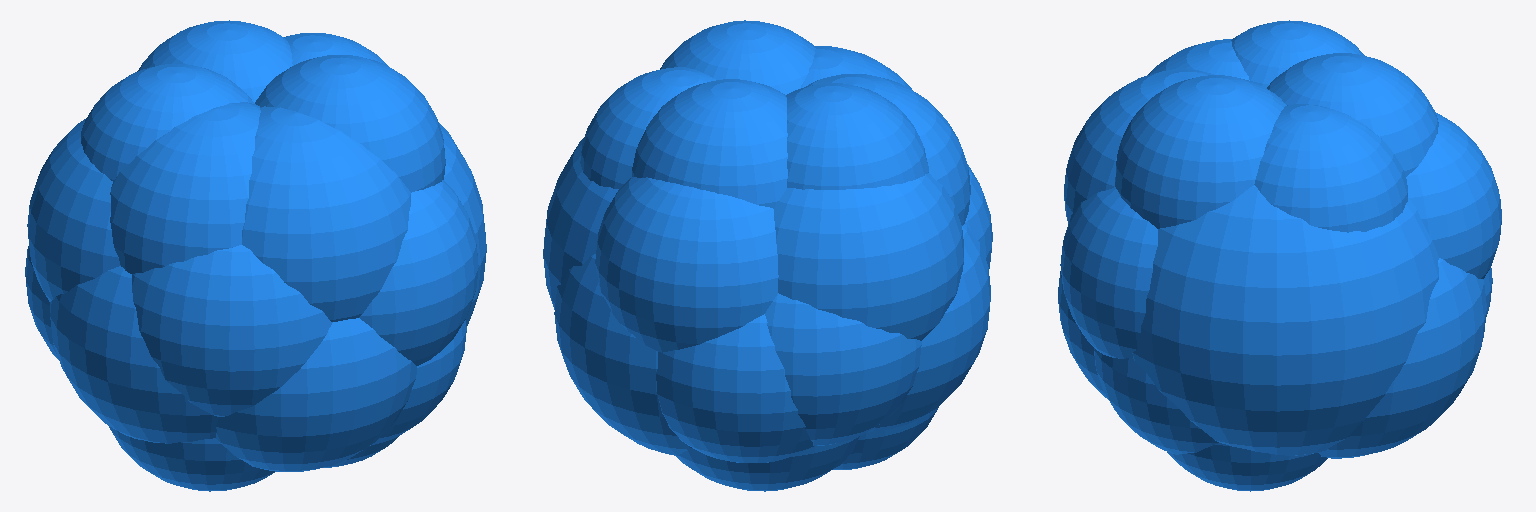
URDF robot description (foobler):
<?xml version="1.0"?>
<robot name="foobler">
  <!-- morphit:centroid -0.003634 -0.001188 0.079109 -->
  <material name="default_color">
    <color rgba="0.200000 0.600000 1.000000 1.000000"/>
  </material>
  <link name="base">
    <inertial>
      <mass value="0.001000"/>
      <inertia ixx="0.000010" ixy="0.0" ixz="0.0" iyy="0.000010" iyz="0.0" izz="0.000010"/>
    </inertial>
  </link>
  <link name="sphere_0">
    <visual>
      <origin xyz="0 0 0" rpy="0 0 0"/>
      <geometry><sphere radius="0.061865"/></geometry>
      <material name="default_color"/>
    </visual>
    <collision>
      <origin xyz="0 0 0" rpy="0 0 0"/>
      <geometry><sphere radius="0.061865"/></geometry>
    </collision>
    <inertial>
      <mass value="0.140719"/>
      <inertia ixx="0.000215" ixy="0.0" ixz="0.0" iyy="0.000215" iyz="0.0" izz="0.000215"/>
    </inertial>
  </link>
  <joint name="sphere_0_fixed" type="fixed">
    <parent link="base"/>
    <child link="sphere_0"/>
    <origin xyz="0.022812 0.001814 -0.002454" rpy="0 0 0"/>
  </joint>
  <link name="sphere_1">
    <visual>
      <origin xyz="0 0 0" rpy="0 0 0"/>
      <geometry><sphere radius="0.045844"/></geometry>
      <material name="default_color"/>
    </visual>
    <collision>
      <origin xyz="0 0 0" rpy="0 0 0"/>
      <geometry><sphere radius="0.045844"/></geometry>
    </collision>
    <inertial>
      <mass value="0.057262"/>
      <inertia ixx="0.000048" ixy="0.0" ixz="0.0" iyy="0.000048" iyz="0.0" izz="0.000048"/>
    </inertial>
  </link>
  <joint name="sphere_1_fixed" type="fixed">
    <parent link="base"/>
    <child link="sphere_1"/>
    <origin xyz="-0.028441 0.010898 0.011694" rpy="0 0 0"/>
  </joint>
  <link name="sphere_2">
    <visual>
      <origin xyz="0 0 0" rpy="0 0 0"/>
      <geometry><sphere radius="0.040465"/></geometry>
      <material name="default_color"/>
    </visual>
    <collision>
      <origin xyz="0 0 0" rpy="0 0 0"/>
      <geometry><sphere radius="0.040465"/></geometry>
    </collision>
    <inertial>
      <mass value="0.039378"/>
      <inertia ixx="0.000026" ixy="0.0" ixz="0.0" iyy="0.000026" iyz="0.0" izz="0.000026"/>
    </inertial>
  </link>
  <joint name="sphere_2_fixed" type="fixed">
    <parent link="base"/>
    <child link="sphere_2"/>
    <origin xyz="0.004598 0.039643 0.013434" rpy="0 0 0"/>
  </joint>
  <link name="sphere_3">
    <visual>
      <origin xyz="0 0 0" rpy="0 0 0"/>
      <geometry><sphere radius="0.046150"/></geometry>
      <material name="default_color"/>
    </visual>
    <collision>
      <origin xyz="0 0 0" rpy="0 0 0"/>
      <geometry><sphere radius="0.046150"/></geometry>
    </collision>
    <inertial>
      <mass value="0.058415"/>
      <inertia ixx="0.000050" ixy="0.0" ixz="0.0" iyy="0.000050" iyz="0.0" izz="0.000050"/>
    </inertial>
  </link>
  <joint name="sphere_3_fixed" type="fixed">
    <parent link="base"/>
    <child link="sphere_3"/>
    <origin xyz="-0.000880 -0.028565 -0.019382" rpy="0 0 0"/>
  </joint>
  <link name="sphere_4">
    <visual>
      <origin xyz="0 0 0" rpy="0 0 0"/>
      <geometry><sphere radius="0.039296"/></geometry>
      <material name="default_color"/>
    </visual>
    <collision>
      <origin xyz="0 0 0" rpy="0 0 0"/>
      <geometry><sphere radius="0.039296"/></geometry>
    </collision>
    <inertial>
      <mass value="0.036064"/>
      <inertia ixx="0.000022" ixy="0.0" ixz="0.0" iyy="0.000022" iyz="0.0" izz="0.000022"/>
    </inertial>
  </link>
  <joint name="sphere_4_fixed" type="fixed">
    <parent link="base"/>
    <child link="sphere_4"/>
    <origin xyz="-0.019471 -0.007854 -0.038157" rpy="0 0 0"/>
  </joint>
  <link name="sphere_5">
    <visual>
      <origin xyz="0 0 0" rpy="0 0 0"/>
      <geometry><sphere radius="0.042949"/></geometry>
      <material name="default_color"/>
    </visual>
    <collision>
      <origin xyz="0 0 0" rpy="0 0 0"/>
      <geometry><sphere radius="0.042949"/></geometry>
    </collision>
    <inertial>
      <mass value="0.047085"/>
      <inertia ixx="0.000035" ixy="0.0" ixz="0.0" iyy="0.000035" iyz="0.0" izz="0.000035"/>
    </inertial>
  </link>
  <joint name="sphere_5_fixed" type="fixed">
    <parent link="base"/>
    <child link="sphere_5"/>
    <origin xyz="-0.009138 0.033827 -0.017415" rpy="0 0 0"/>
  </joint>
  <link name="sphere_6">
    <visual>
      <origin xyz="0 0 0" rpy="0 0 0"/>
      <geometry><sphere radius="0.041426"/></geometry>
      <material name="default_color"/>
    </visual>
    <collision>
      <origin xyz="0 0 0" rpy="0 0 0"/>
      <geometry><sphere radius="0.041426"/></geometry>
    </collision>
    <inertial>
      <mass value="0.042251"/>
      <inertia ixx="0.000029" ixy="0.0" ixz="0.0" iyy="0.000029" iyz="0.0" izz="0.000029"/>
    </inertial>
  </link>
  <joint name="sphere_6_fixed" type="fixed">
    <parent link="base"/>
    <child link="sphere_6"/>
    <origin xyz="-0.021640 -0.014064 0.023871" rpy="0 0 0"/>
  </joint>
  <link name="sphere_7">
    <visual>
      <origin xyz="0 0 0" rpy="0 0 0"/>
      <geometry><sphere radius="0.052327"/></geometry>
      <material name="default_color"/>
    </visual>
    <collision>
      <origin xyz="0 0 0" rpy="0 0 0"/>
      <geometry><sphere radius="0.052327"/></geometry>
    </collision>
    <inertial>
      <mass value="0.085155"/>
      <inertia ixx="0.000093" ixy="0.0" ixz="0.0" iyy="0.000093" iyz="0.0" izz="0.000093"/>
    </inertial>
  </link>
  <joint name="sphere_7_fixed" type="fixed">
    <parent link="base"/>
    <child link="sphere_7"/>
    <origin xyz="0.017319 0.022440 -0.015756" rpy="0 0 0"/>
  </joint>
  <link name="sphere_8">
    <visual>
      <origin xyz="0 0 0" rpy="0 0 0"/>
      <geometry><sphere radius="0.044063"/></geometry>
      <material name="default_color"/>
    </visual>
    <collision>
      <origin xyz="0 0 0" rpy="0 0 0"/>
      <geometry><sphere radius="0.044063"/></geometry>
    </collision>
    <inertial>
      <mass value="0.050843"/>
      <inertia ixx="0.000039" ixy="0.0" ixz="0.0" iyy="0.000039" iyz="0.0" izz="0.000039"/>
    </inertial>
  </link>
  <joint name="sphere_8_fixed" type="fixed">
    <parent link="base"/>
    <child link="sphere_8"/>
    <origin xyz="-0.003553 0.017428 -0.034534" rpy="0 0 0"/>
  </joint>
  <link name="sphere_9">
    <visual>
      <origin xyz="0 0 0" rpy="0 0 0"/>
      <geometry><sphere radius="0.035207"/></geometry>
      <material name="default_color"/>
    </visual>
    <collision>
      <origin xyz="0 0 0" rpy="0 0 0"/>
      <geometry><sphere radius="0.035207"/></geometry>
    </collision>
    <inertial>
      <mass value="0.025937"/>
      <inertia ixx="0.000013" ixy="0.0" ixz="0.0" iyy="0.000013" iyz="0.0" izz="0.000013"/>
    </inertial>
  </link>
  <joint name="sphere_9_fixed" type="fixed">
    <parent link="base"/>
    <child link="sphere_9"/>
    <origin xyz="0.032320 0.013102 0.031545" rpy="0 0 0"/>
  </joint>
  <link name="sphere_10">
    <visual>
      <origin xyz="0 0 0" rpy="0 0 0"/>
      <geometry><sphere radius="0.043339"/></geometry>
      <material name="default_color"/>
    </visual>
    <collision>
      <origin xyz="0 0 0" rpy="0 0 0"/>
      <geometry><sphere radius="0.043339"/></geometry>
    </collision>
    <inertial>
      <mass value="0.048380"/>
      <inertia ixx="0.000036" ixy="0.0" ixz="0.0" iyy="0.000036" iyz="0.0" izz="0.000036"/>
    </inertial>
  </link>
  <joint name="sphere_10_fixed" type="fixed">
    <parent link="base"/>
    <child link="sphere_10"/>
    <origin xyz="0.000923 -0.029299 0.021102" rpy="0 0 0"/>
  </joint>
  <link name="sphere_11">
    <visual>
      <origin xyz="0 0 0" rpy="0 0 0"/>
      <geometry><sphere radius="0.049612"/></geometry>
      <material name="default_color"/>
    </visual>
    <collision>
      <origin xyz="0 0 0" rpy="0 0 0"/>
      <geometry><sphere radius="0.049612"/></geometry>
    </collision>
    <inertial>
      <mass value="0.072576"/>
      <inertia ixx="0.000071" ixy="0.0" ixz="0.0" iyy="0.000071" iyz="0.0" izz="0.000071"/>
    </inertial>
  </link>
  <joint name="sphere_11_fixed" type="fixed">
    <parent link="base"/>
    <child link="sphere_11"/>
    <origin xyz="-0.025165 -0.005814 -0.012168" rpy="0 0 0"/>
  </joint>
  <link name="sphere_12">
    <visual>
      <origin xyz="0 0 0" rpy="0 0 0"/>
      <geometry><sphere radius="0.041748"/></geometry>
      <material name="default_color"/>
    </visual>
    <collision>
      <origin xyz="0 0 0" rpy="0 0 0"/>
      <geometry><sphere radius="0.041748"/></geometry>
    </collision>
    <inertial>
      <mass value="0.043244"/>
      <inertia ixx="0.000030" ixy="0.0" ixz="0.0" iyy="0.000030" iyz="0.0" izz="0.000030"/>
    </inertial>
  </link>
  <joint name="sphere_12_fixed" type="fixed">
    <parent link="base"/>
    <child link="sphere_12"/>
    <origin xyz="0.023248 -0.031984 0.003720" rpy="0 0 0"/>
  </joint>
  <link name="sphere_13">
    <visual>
      <origin xyz="0 0 0" rpy="0 0 0"/>
      <geometry><sphere radius="0.041680"/></geometry>
      <material name="default_color"/>
    </visual>
    <collision>
      <origin xyz="0 0 0" rpy="0 0 0"/>
      <geometry><sphere radius="0.041680"/></geometry>
    </collision>
    <inertial>
      <mass value="0.043034"/>
      <inertia ixx="0.000030" ixy="0.0" ixz="0.0" iyy="0.000030" iyz="0.0" izz="0.000030"/>
    </inertial>
  </link>
  <joint name="sphere_13_fixed" type="fixed">
    <parent link="base"/>
    <child link="sphere_13"/>
    <origin xyz="0.024987 -0.020994 -0.024565" rpy="0 0 0"/>
  </joint>
  <link name="sphere_14">
    <visual>
      <origin xyz="0 0 0" rpy="0 0 0"/>
      <geometry><sphere radius="0.043204"/></geometry>
      <material name="default_color"/>
    </visual>
    <collision>
      <origin xyz="0 0 0" rpy="0 0 0"/>
      <geometry><sphere radius="0.043204"/></geometry>
    </collision>
    <inertial>
      <mass value="0.047927"/>
      <inertia ixx="0.000036" ixy="0.0" ixz="0.0" iyy="0.000036" iyz="0.0" izz="0.000036"/>
    </inertial>
  </link>
  <joint name="sphere_14_fixed" type="fixed">
    <parent link="base"/>
    <child link="sphere_14"/>
    <origin xyz="-0.025443 0.022922 -0.011014" rpy="0 0 0"/>
  </joint>
  <link name="sphere_15">
    <visual>
      <origin xyz="0 0 0" rpy="0 0 0"/>
      <geometry><sphere radius="0.034696"/></geometry>
      <material name="default_color"/>
    </visual>
    <collision>
      <origin xyz="0 0 0" rpy="0 0 0"/>
      <geometry><sphere radius="0.034696"/></geometry>
    </collision>
    <inertial>
      <mass value="0.024823"/>
      <inertia ixx="0.000012" ixy="0.0" ixz="0.0" iyy="0.000012" iyz="0.0" izz="0.000012"/>
    </inertial>
  </link>
  <joint name="sphere_15_fixed" type="fixed">
    <parent link="base"/>
    <child link="sphere_15"/>
    <origin xyz="-0.025400 0.006089 0.036697" rpy="0 0 0"/>
  </joint>
  <link name="sphere_16">
    <visual>
      <origin xyz="0 0 0" rpy="0 0 0"/>
      <geometry><sphere radius="0.035938"/></geometry>
      <material name="default_color"/>
    </visual>
    <collision>
      <origin xyz="0 0 0" rpy="0 0 0"/>
      <geometry><sphere radius="0.035938"/></geometry>
    </collision>
    <inertial>
      <mass value="0.027585"/>
      <inertia ixx="0.000014" ixy="0.0" ixz="0.0" iyy="0.000014" iyz="0.0" izz="0.000014"/>
    </inertial>
  </link>
  <joint name="sphere_16_fixed" type="fixed">
    <parent link="base"/>
    <child link="sphere_16"/>
    <origin xyz="0.024244 -0.019468 0.037513" rpy="0 0 0"/>
  </joint>
  <link name="sphere_17">
    <visual>
      <origin xyz="0 0 0" rpy="0 0 0"/>
      <geometry><sphere radius="0.035913"/></geometry>
      <material name="default_color"/>
    </visual>
    <collision>
      <origin xyz="0 0 0" rpy="0 0 0"/>
      <geometry><sphere radius="0.035913"/></geometry>
    </collision>
    <inertial>
      <mass value="0.027529"/>
      <inertia ixx="0.000014" ixy="0.0" ixz="0.0" iyy="0.000014" iyz="0.0" izz="0.000014"/>
    </inertial>
  </link>
  <joint name="sphere_17_fixed" type="fixed">
    <parent link="base"/>
    <child link="sphere_17"/>
    <origin xyz="0.005096 0.024365 0.037110" rpy="0 0 0"/>
  </joint>
  <link name="sphere_18">
    <visual>
      <origin xyz="0 0 0" rpy="0 0 0"/>
      <geometry><sphere radius="0.043722"/></geometry>
      <material name="default_color"/>
    </visual>
    <collision>
      <origin xyz="0 0 0" rpy="0 0 0"/>
      <geometry><sphere radius="0.043722"/></geometry>
    </collision>
    <inertial>
      <mass value="0.049675"/>
      <inertia ixx="0.000038" ixy="0.0" ixz="0.0" iyy="0.000038" iyz="0.0" izz="0.000038"/>
    </inertial>
  </link>
  <joint name="sphere_18_fixed" type="fixed">
    <parent link="base"/>
    <child link="sphere_18"/>
    <origin xyz="-0.020428 -0.026955 -0.000005" rpy="0 0 0"/>
  </joint>
  <link name="sphere_19">
    <visual>
      <origin xyz="0 0 0" rpy="0 0 0"/>
      <geometry><sphere radius="0.037806"/></geometry>
      <material name="default_color"/>
    </visual>
    <collision>
      <origin xyz="0 0 0" rpy="0 0 0"/>
      <geometry><sphere radius="0.037806"/></geometry>
    </collision>
    <inertial>
      <mass value="0.032116"/>
      <inertia ixx="0.000018" ixy="0.0" ixz="0.0" iyy="0.000018" iyz="0.0" izz="0.000018"/>
    </inertial>
  </link>
  <joint name="sphere_19_fixed" type="fixed">
    <parent link="base"/>
    <child link="sphere_19"/>
    <origin xyz="0.024012 -0.007533 -0.041236" rpy="0 0 0"/>
  </joint>
</robot>

--- Render facts (derived) ---
The picture shows the robot from 3 angles, left to right: view 1: azimuth 30°, elevation 25°; view 2: azimuth 150°, elevation 25°; view 3: azimuth 270°, elevation 25°; orthographic projection.
Robot: foobler — 21 links, 20 joints (20 fixed); root link base; default pose: all joints at 0.
Links seen in each view (by area): view 1: sphere_10, sphere_18, sphere_6, sphere_3, sphere_11, sphere_16, sphere_12, sphere_1, sphere_15, sphere_17, sphere_4, sphere_13 (+3 smaller); view 2: sphere_2, sphere_1, sphere_5, sphere_17, sphere_14, sphere_15, sphere_7, sphere_11, sphere_16, sphere_9, sphere_0, sphere_6 (+4 smaller); view 3: sphere_0, sphere_16, sphere_9, sphere_7, sphere_12, sphere_17, sphere_2, sphere_10, sphere_13, sphere_15, sphere_19, sphere_6 (+1 smaller).
Link boxes in pixels (x1,y1,x2,y2): sphere_10: [242, 106, 410, 321]; sphere_18: [132, 245, 332, 416]; sphere_6: [110, 102, 260, 273]; sphere_3: [216, 318, 416, 471]; sphere_11: [50, 266, 218, 443]; sphere_16: [255, 55, 445, 192]; sphere_12: [359, 180, 478, 365]; sphere_1: [27, 119, 120, 301]; sphere_15: [81, 64, 254, 180]; sphere_17: [137, 20, 292, 102]; sphere_4: [108, 425, 274, 491]; sphere_13: [370, 320, 466, 445]; sphere_2: [595, 177, 778, 352]; sphere_1: [774, 173, 963, 340]; sphere_5: [656, 314, 814, 462]; sphere_17: [632, 79, 787, 208]; sphere_14: [765, 293, 921, 445]; sphere_15: [786, 83, 928, 189]; sphere_7: [554, 254, 689, 455]; sphere_11: [868, 224, 990, 431]; sphere_16: [660, 20, 815, 94]; sphere_9: [580, 67, 715, 188]; sphere_0: [543, 138, 618, 309]; sphere_6: [806, 74, 970, 225]; sphere_0: [1132, 185, 1438, 455]; sphere_16: [1115, 75, 1286, 228]; sphere_9: [1254, 104, 1407, 232]; sphere_7: [1318, 258, 1486, 458]; sphere_12: [1060, 187, 1157, 358]; sphere_17: [1267, 53, 1438, 176]; sphere_2: [1406, 113, 1501, 278]; sphere_10: [1064, 68, 1213, 223]; sphere_13: [1094, 348, 1218, 454]; sphere_15: [1231, 20, 1364, 87]; sphere_19: [1167, 443, 1327, 491]; sphere_6: [1148, 39, 1249, 80].
Bounding box of the posed robot: 0.1595 × 0.1548 × 0.1525 m (x, y, z).
Geometry: primitives only (box / cylinder / sphere), no mesh files.
